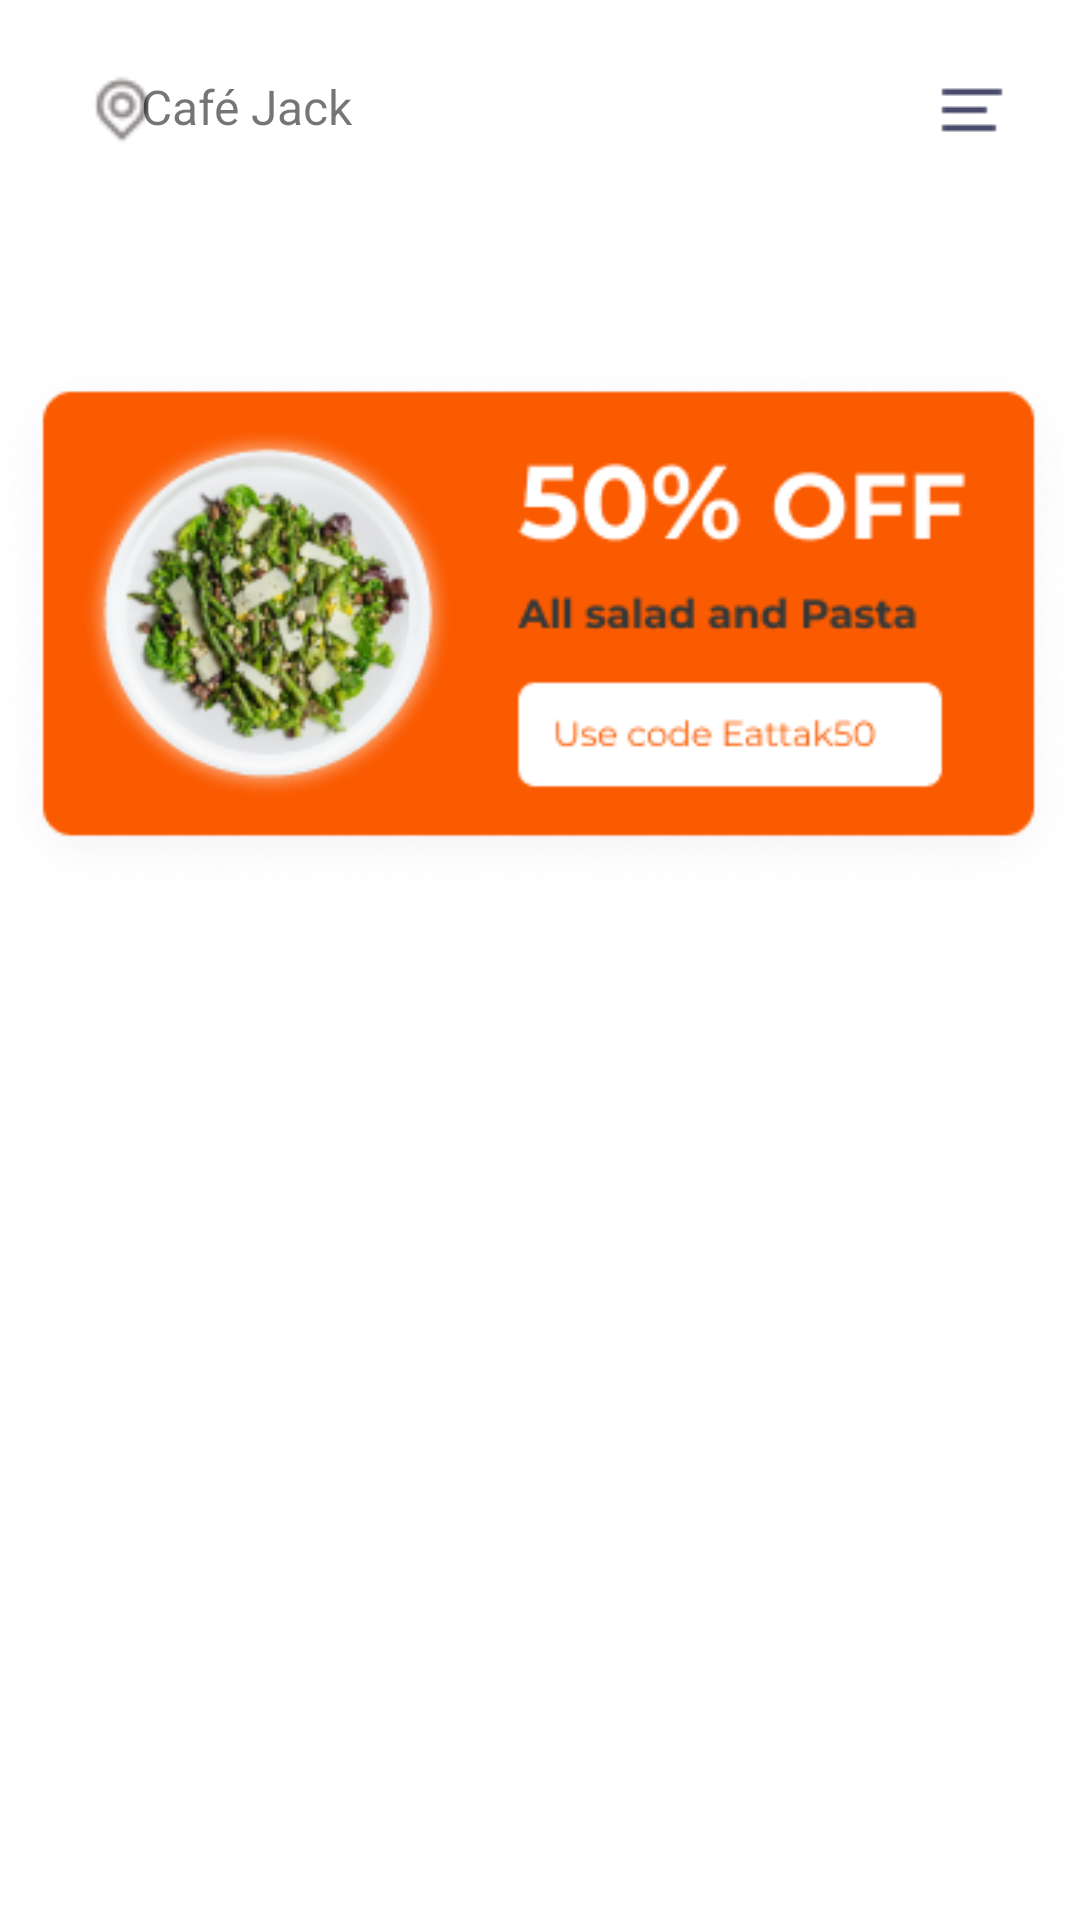

Point at icon controls on the screen. Image size 1080*1920, points as [x,y].
location: [127,109]
menu: [972,110]
